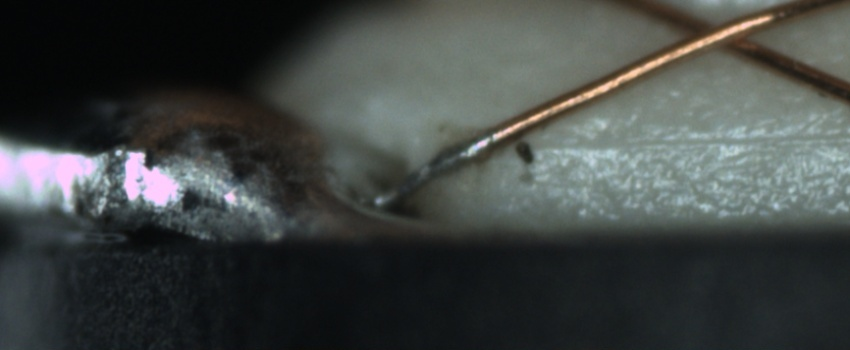CL: (660, 3, 782, 63)
DL: (521, 108, 850, 172)
TS: (370, 132, 495, 207)
